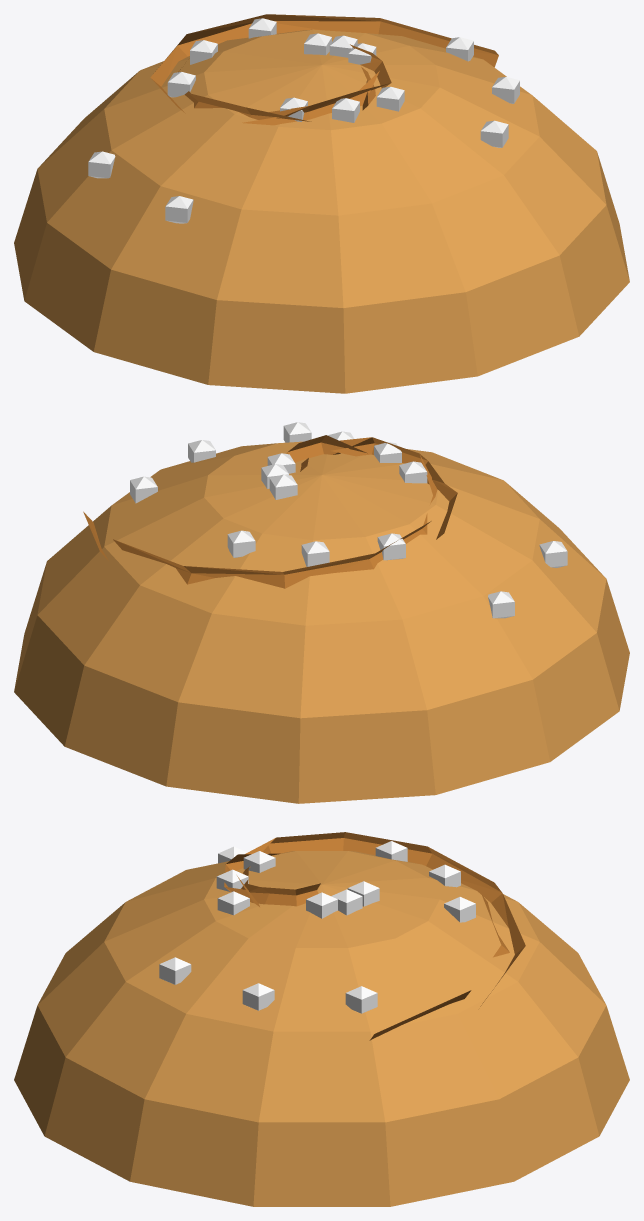
The model's file is bulle.glb.
3 renders of one model, top to bottom at view 1: azimuth 30°, elevation 25°; view 2: azimuth 150°, elevation 25°; view 3: azimuth 270°, elevation 25°, orthographic.
Parts seen in each view (by area): view 1: bulle; view 2: bulle; view 3: bulle.
Boxes of the visible parts, bbox=[...] form: bulle: bbox=[14, 14, 629, 393]; bulle: bbox=[14, 422, 629, 803]; bulle: bbox=[14, 832, 629, 1206].
Size of the model in its own units: 0.39 by 0.1503 by 0.4.
